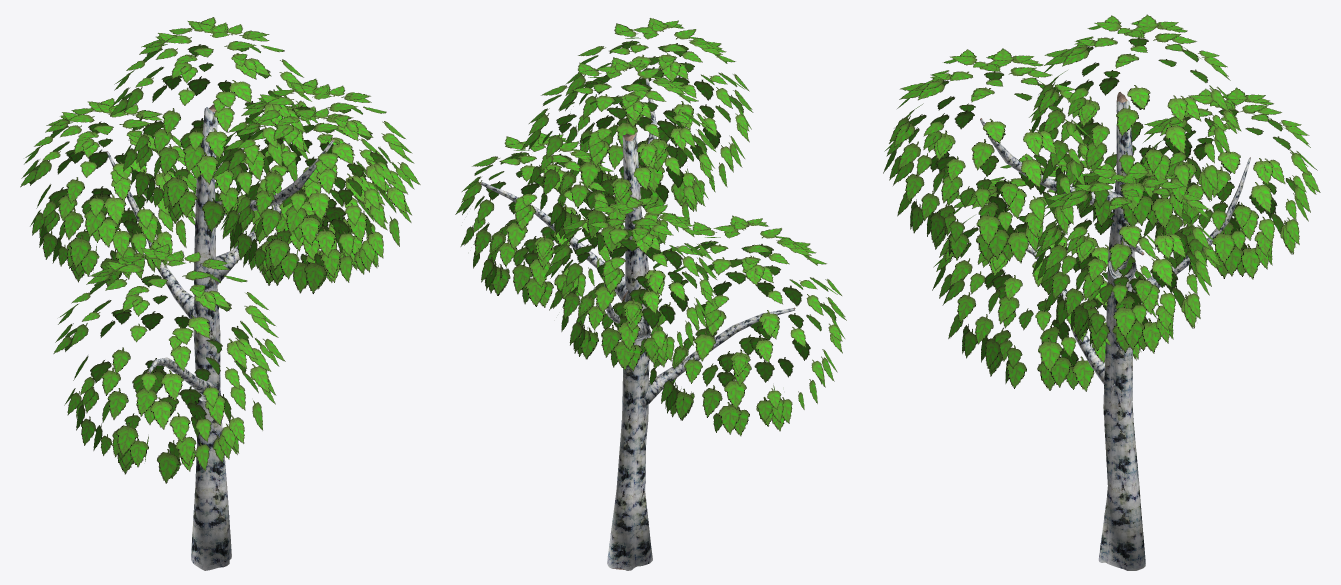
File: TREE_BIRCH.gltf
3 renders of one model, left to right at view 1: azimuth 30°, elevation 25°; view 2: azimuth 150°, elevation 25°; view 3: azimuth 270°, elevation 25°, orthographic. The views are drawn at different scales.
Parts seen in each view (by area): view 1: BIRCH_BASE, BIRCH_BRANCH.001, BIRCH_BRANCH.003, BIRCH_BRANCH.002, BIRCH_BRANCH.004; view 2: BIRCH_BASE, BIRCH_BRANCH.003, BIRCH_BRANCH.004; view 3: BIRCH_BASE, BIRCH_BRANCH.002, BIRCH_BRANCH.003, BIRCH_BRANCH.001.
Boxes of the visible parts, <box> form: BIRCH_BASE: <box>191,104,231,570</box>; BIRCH_BRANCH.001: <box>106,151,196,318</box>; BIRCH_BRANCH.003: <box>147,357,220,401</box>; BIRCH_BRANCH.002: <box>214,139,334,215</box>; BIRCH_BRANCH.004: <box>213,143,350,285</box>; BIRCH_BASE: <box>607,132,652,570</box>; BIRCH_BRANCH.003: <box>639,307,795,408</box>; BIRCH_BRANCH.004: <box>480,182,627,301</box>; BIRCH_BASE: <box>1098,92,1145,570</box>; BIRCH_BRANCH.002: <box>980,118,1121,207</box>; BIRCH_BRANCH.003: <box>1026,247,1114,392</box>; BIRCH_BRANCH.001: <box>1134,157,1250,292</box>.
Size of the model in its own units: 3.67 by 5.14 by 3.89.
Materials: 3 (3 with a texture image).
